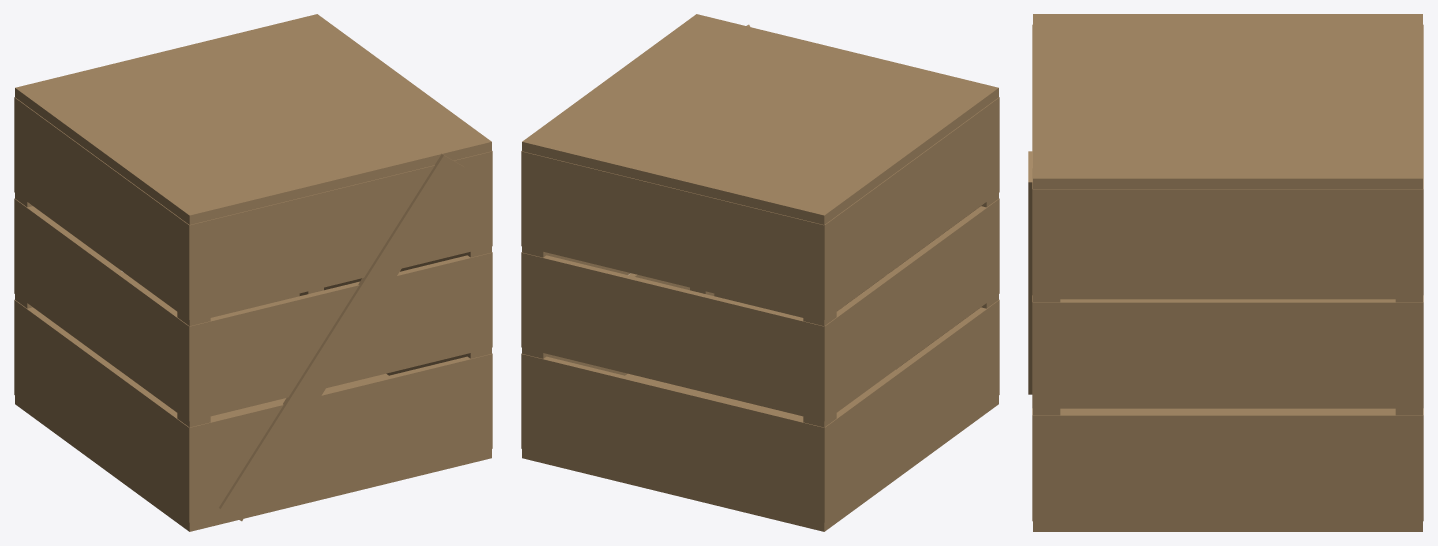
The model's file is caisse.glb.
3 views of the same model, side by side, from view 1: azimuth 30°, elevation 25°; view 2: azimuth 150°, elevation 25°; view 3: azimuth 270°, elevation 25° (orthographic). The views are drawn at different scales.
Parts seen in each view (by area): view 1: caisse_planches, caisse_montants; view 2: caisse_planches, caisse_montants; view 3: caisse_planches, caisse_montants.
Boxes of the visible parts, box(x1,y1,x2,y2) form: caisse_planches: box(14, 14, 492, 530); caisse_montants: box(15, 14, 491, 531); caisse_planches: box(521, 14, 999, 531); caisse_montants: box(522, 14, 998, 531); caisse_planches: box(1032, 14, 1423, 531); caisse_montants: box(1028, 14, 1422, 531).
Bounding box in the file's own units: 1.2 × 1.2 × 1.22.
